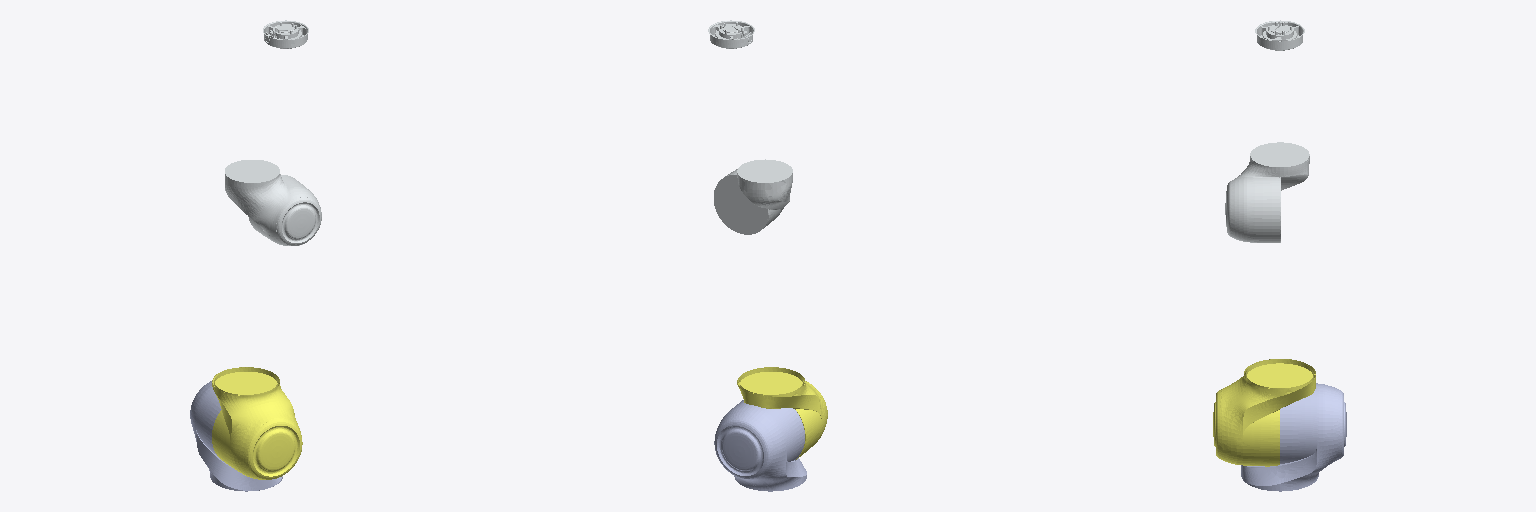
robot.urdf — diana_v2:
<?xml version="1.0" encoding="utf-8"?>
<!-- This URDF was automatically created by SolidWorks to URDF Exporter! Originally created by [author] ([email redacted]) 
     Commit Version: 1.5.1-0-g916b5db  Build Version: 1.5.7152.31018
     For more information, please see http://wiki.ros.org/sw_urdf_exporter -->
<robot
  name="diana_v2">
  <link
    name="base">
    <inertial>
      <origin
        xyz="0.00153097191906452 0.00152031034664837 0.0524230280849149"
        rpy="0 0 0" />
      <mass
        value="1.33110743457779" />
      <inertia
        ixx="0.00695879790529406"
        ixy="9.99328685258342E-05"
        ixz="7.99577031212481E-05"
        iyy="0.00695365531716522"
        iyz="7.90796997368543E-05"
        izz="0.00729823323321907" />
    </inertial>
    <visual>
      <origin
        xyz="0 0 0"
        rpy="0 0 0" />
      <geometry>
        <mesh
          filename="./meshes/visual/obj/base.obj" />
      </geometry>
      <material
        name="">
        <color
          rgba="0.796078431372549 0.823529411764706 0.937254901960784 1" />
      </material>
    </visual>
    <collision>
      <origin
        xyz="0 0 0"
        rpy="0 0 0" />
      <geometry>
        <mesh
          filename="./meshes/visual/obj/base.obj" />
      </geometry>
    </collision>
  </link>
  <link
    name="link_1">
    <inertial>
      <origin
        xyz="5.5234067920554E-05 0.0254878204920178 -0.0355441421264809"
        rpy="0 0 0" />
      <mass
        value="1.09025546409174" />
      <inertia
        ixx="0.00585031196428369"
        ixy="1.4630349447555E-07"
        ixz="1.35351687162397E-06"
        iyy="0.00645496952227061"
        iyz="-0.00104800484741808"
        izz="0.00459531291521244" />
    </inertial>
    <visual>
      <origin
        xyz="0 0 0"
        rpy="0 0 0" />
      <geometry>
        <mesh
          filename="./meshes/visual/obj/link_1.obj" />
      </geometry>
      <material
        name="">
        <color
          rgba="0.796078431372549 0.823529411764706 0.937254901960784 1" />
      </material>
    </visual>
    <collision>
      <origin
        xyz="0 0 0"
        rpy="0 0 0" />
      <geometry>
        <mesh
          filename="./meshes/visual/obj/link_1.obj" />
      </geometry>
    </collision>
  </link>
  <joint
    name="joint_1"
    type="revolute">
    <origin
      xyz="0 0 0.2856"
      rpy="0 0 0" />
    <parent
      link="base" />
    <child
      link="link_1" />
    <axis
      xyz="0 0 -1" />
    <limit
      lower="-2.97"
      upper="2.97"
      effort="0"
      velocity="0" />
  </joint>
  <link
    name="link_2">
    <inertial>
      <origin
        xyz="-3.62724763868157E-06 -0.0292741005087307 -0.041280769252073"
        rpy="0 0 0" />
      <mass
        value="1.09515454908799" />
      <inertia
        ixx="0.00575817488413533"
        ixy="4.92454490330888E-07"
        ixz="-5.75758988171004E-07"
        iyy="0.00452592941277235"
        iyz="0.00135206824645357"
        izz="0.0058904584276842" />
    </inertial>
    <visual>
      <origin
        xyz="0 0 0"
        rpy="0 0 0" />
      <geometry>
        <mesh
          filename="./meshes/visual/obj/link_2.obj" />
      </geometry>
      <material
        name="">
        <color
          rgba="0.980392156862745 0.980392156862745 0.470588235294118 1" />
      </material>
    </visual>
    <collision>
      <origin
        xyz="0 0 0"
        rpy="0 0 0" />
      <geometry>
        <mesh
          filename="./meshes/visual/obj/link_2.obj" />
      </geometry>
    </collision>
  </link>
  <joint
    name="joint_2"
    type="revolute">
    <origin
      xyz="0 0 0"
      rpy="-1.5707963267949 0 0" />
    <parent
      link="link_1" />
    <child
      link="link_2" />
    <axis
      xyz="0 0 1" />
    <limit
      lower="-1.57"
      upper="1.57"
      effort="0"
      velocity="0" />
  </joint>
  <link
    name="link_3">
    <inertial>
      <origin
        xyz="0.0114318213510691 0.0101707598694861 -0.15131695375217"
        rpy="0 0 0" />
      <mass
        value="2.01686690128149" />
      <inertia
        ixx="0.0362470020041464"
        ixy="-0.00099203786071914"
        ixz="-0.00494440140493448"
        iyy="0.0374857206758098"
        iyz="-0.00313859974095155"
        izz="0.00905850119342719" />
    </inertial>
    <visual>
      <origin
        xyz="0 0 0"
        rpy="0 0 0" />
      <geometry>
        <mesh
          filename="./meshes/visual/obj/link_3.obj" />
      </geometry>
      <material
        name="">
        <color
          rgba="0.898039215686275 0.917647058823529 0.929411764705882 1" />
      </material>
    </visual>
    <collision>
      <origin
        xyz="0 0 0"
        rpy="0 0 0" />
      <geometry>
        <mesh
          filename="./meshes/visual/obj/link_3.obj" />
      </geometry>
    </collision>
  </link>
  <joint
    name="joint_3"
    type="revolute">
    <origin
      xyz="0 -0.4586 0"
      rpy="1.5707963267949 0 0" />
    <parent
      link="link_2" />
    <child
      link="link_3" />
    <axis
      xyz="0 0 -1" />
    <limit
      lower="-2.97"
      upper="2.97"
      effort="0"
      velocity="0" />
  </joint>
  <link
    name="link_4">
    <inertial>
      <origin
        xyz="-0.0240716370537192 -0.0235631728011761 -0.0366858174253844"
        rpy="0 0 0" />
      <mass
        value="0.849743349506889" />
      <inertia
        ixx="0.00313444335639628"
        ixy="-0.000681243351041131"
        ixz="0.000725380047812207"
        iyy="0.00333717642442852"
        iyz="0.000771057559109157"
        izz="0.0034847726349841" />
    </inertial>
    <visual>
      <origin
        xyz="0 0 0"
        rpy="0 0 0" />
      <geometry>
        <mesh
          filename="./meshes/visual/obj/link_4.obj" />
      </geometry>
      <material
        name="">
        <color
          rgba="0.898039215686275 0.917647058823529 0.929411764705882 1" />
      </material>
    </visual>
    <collision>
      <origin
        xyz="0 0 0"
        rpy="0 0 0" />
      <geometry>
        <mesh
          filename="./meshes/visual/obj/link_4.obj" />
      </geometry>
    </collision>
  </link>
  <joint
    name="joint_4"
    type="revolute">
    <origin
      xyz="0.065 0 0"
      rpy="-1.5707963267949 0 0" />
    <parent
      link="link_3" />
    <child
      link="link_4" />
    <axis
      xyz="0 0 1" />
    <limit
      lower="0"
      upper="3.14"
      effort="0"
      velocity="0" />
  </joint>
  <link
    name="link_5">
    <inertial>
      <origin
        xyz="-0.00867148011164554 -0.0383499684802812 -0.210246042699824"
        rpy="0 0 0" />
      <mass
        value="1.20580396965245" />
      <inertia
        ixx="0.0218436427570802"
        ixy="-0.000309747330693722"
        ixz="0.00089039094846826"
        iyy="0.0205896836785318"
        iyz="0.00493573923914426"
        izz="0.00372270106038425" />
    </inertial>
    <visual>
      <origin
        xyz="0 0 0"
        rpy="0 0 0" />
      <geometry>
        <mesh
          filename="./meshes/visual/obj/link_5.obj" />
      </geometry>
      <material
        name="">
        <color
          rgba="0.898039215686275 0.917647058823529 0.929411764705882 1" />
      </material>
    </visual>
    <collision>
      <origin
        xyz="0 0 0"
        rpy="0 0 0" />
      <geometry>
        <mesh
          filename="./meshes/visual/obj/link_5.obj" />
      </geometry>
    </collision>
  </link>
  <joint
    name="joint_5"
    type="revolute">
    <origin
      xyz="-0.0528 -0.47702 0"
      rpy="1.5707963267949 0 0" />
    <parent
      link="link_4" />
    <child
      link="link_5" />
    <axis
      xyz="0 0 -1" />
    <limit
      lower="-2.97"
      upper="2.97"
      effort="0"
      velocity="0" />
  </joint>
  <link
    name="link_6">
    <inertial>
      <origin
        xyz="-0.045897226241036 -0.00848579821002571 0.0078257811617596"
        rpy="0 0 0" />
      <mass
        value="0.847157564562275" />
      <inertia
        ixx="0.00286926864109097"
        ixy="-0.000341664135091818"
        ixz="-0.000318082297486923"
        iyy="0.0043294660443987"
        iyz="-5.82962380662208E-05"
        izz="0.00437292566725527" />
    </inertial>
    <visual>
      <origin
        xyz="0 0 0"
        rpy="0 0 3.14159265359" />
      <geometry>
        <mesh
          filename="./meshes/visual/obj/link_6.obj" />
      </geometry>
      <material
        name="">
        <color
          rgba="0.980392156862745 0.980392156862745 0.470588235294118 1" />
      </material>
    </visual>
    <collision>
      <origin
        xyz="0 0 0"
        rpy="0 0 3.14159265359" />
      <geometry>
        <mesh
          filename="./meshes/visual/obj/link_6.obj" />
      </geometry>
    </collision>
  </link>
  <joint
    name="joint_6"
    type="revolute">
    <origin
      xyz="-0.0122 0 -0.021619"
      rpy="-1.5707963267949 0 0" />
    <parent
      link="link_5" />
    <child
      link="link_6" />
    <axis
      xyz="0 0 -1" />
    <limit
      lower="-2.97"
      upper="2.97"
      effort="0"
      velocity="0" />
  </joint>
  <link
    name="link_7">
    <inertial>
      <origin
        xyz="0.00117005127509708 5.03191940906655E-06 -0.0151381784822231"
        rpy="0 0 0" />
      <mass
        value="0.233956150459573" />
      <inertia
        ixx="0.000142027360977168"
        ixy="1.76426389345981E-08"
        ixz="2.14635741626268E-07"
        iyy="0.000134421724783865"
        iyz="-1.29988689037464E-09"
        izz="0.000240242798572463" />
    </inertial>
    <visual>
      <origin
        xyz="0 0 0"
        rpy="0 0 0" />
      <geometry>
        <mesh
          filename="./meshes/visual/obj/link_7.obj" />
      </geometry>
      <material
        name="">
        <color
          rgba="0.898039215686275 0.917647058823529 0.929411764705882 1" />
      </material>
    </visual>
    <collision>
      <origin
        xyz="0 0 0"
        rpy="0 0 0" />
      <geometry>
        <mesh
          filename="./meshes/visual/obj/link_7.obj" />
      </geometry>
    </collision>
  </link>
  <joint
    name="joint_7"
    type="revolute">
    <origin
      xyz="0.087 0.1169 0"
      rpy="1.5707963267949 0 3.14159265359" />
    <parent
      link="link_6" />
    <child
      link="link_7" />
    <axis
      xyz="0 0 -1" />
    <limit
      lower="-2.97"
      upper="2.97"
      effort="0"
      velocity="0" />
  </joint>
</robot>

--- What the picture shows (computed from the rendered views, not written in the file) ---
3 views of the same robot in one strip: view 1: azimuth 30°, elevation 25°; view 2: azimuth 150°, elevation 25°; view 3: azimuth 270°, elevation 25° (orthographic).
Robot: diana_v2 — 8 links, 7 joints (7 revolute); root link base; default pose: all joints at 0.
Visible links, largest first — view 1: link_2, link_4, link_1, link_7; view 2: link_1, link_4, link_2, link_7; view 3: link_2, link_1, link_4, link_7.
Link boxes in pixels (x1,y1,x2,y2): link_2: [212, 367, 302, 479]; link_4: [225, 160, 321, 245]; link_1: [190, 381, 282, 491]; link_7: [263, 20, 308, 48]; link_1: [714, 400, 806, 491]; link_4: [714, 159, 792, 234]; link_2: [737, 367, 827, 459]; link_7: [708, 20, 754, 48]; link_2: [1213, 359, 1315, 466]; link_1: [1241, 383, 1346, 491]; link_4: [1225, 142, 1309, 242]; link_7: [1255, 20, 1304, 50].
Bounding box of the posed robot: 0.2089 × 0.2406 × 0.9317 m (x, y, z).
Meshes: 8 distinct files referenced, 4 mesh visuals loaded (4 OBJ); not drawn: 4 (reference not matched to a file when rendering).
